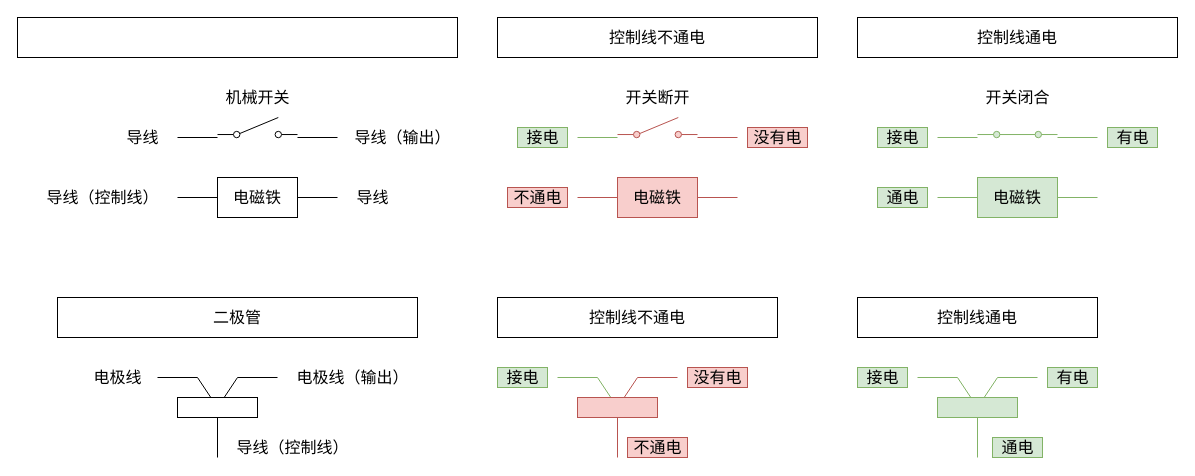
This 1195x476 diagram has some shape labels left out. Here are the shapes that lost their labels. From the top down, the centre of each, then its label:
the point at 237,37: 机械继电器
the point at 217,407: 半导体
the point at 617,407: 不导通
the point at 977,407: 导通
